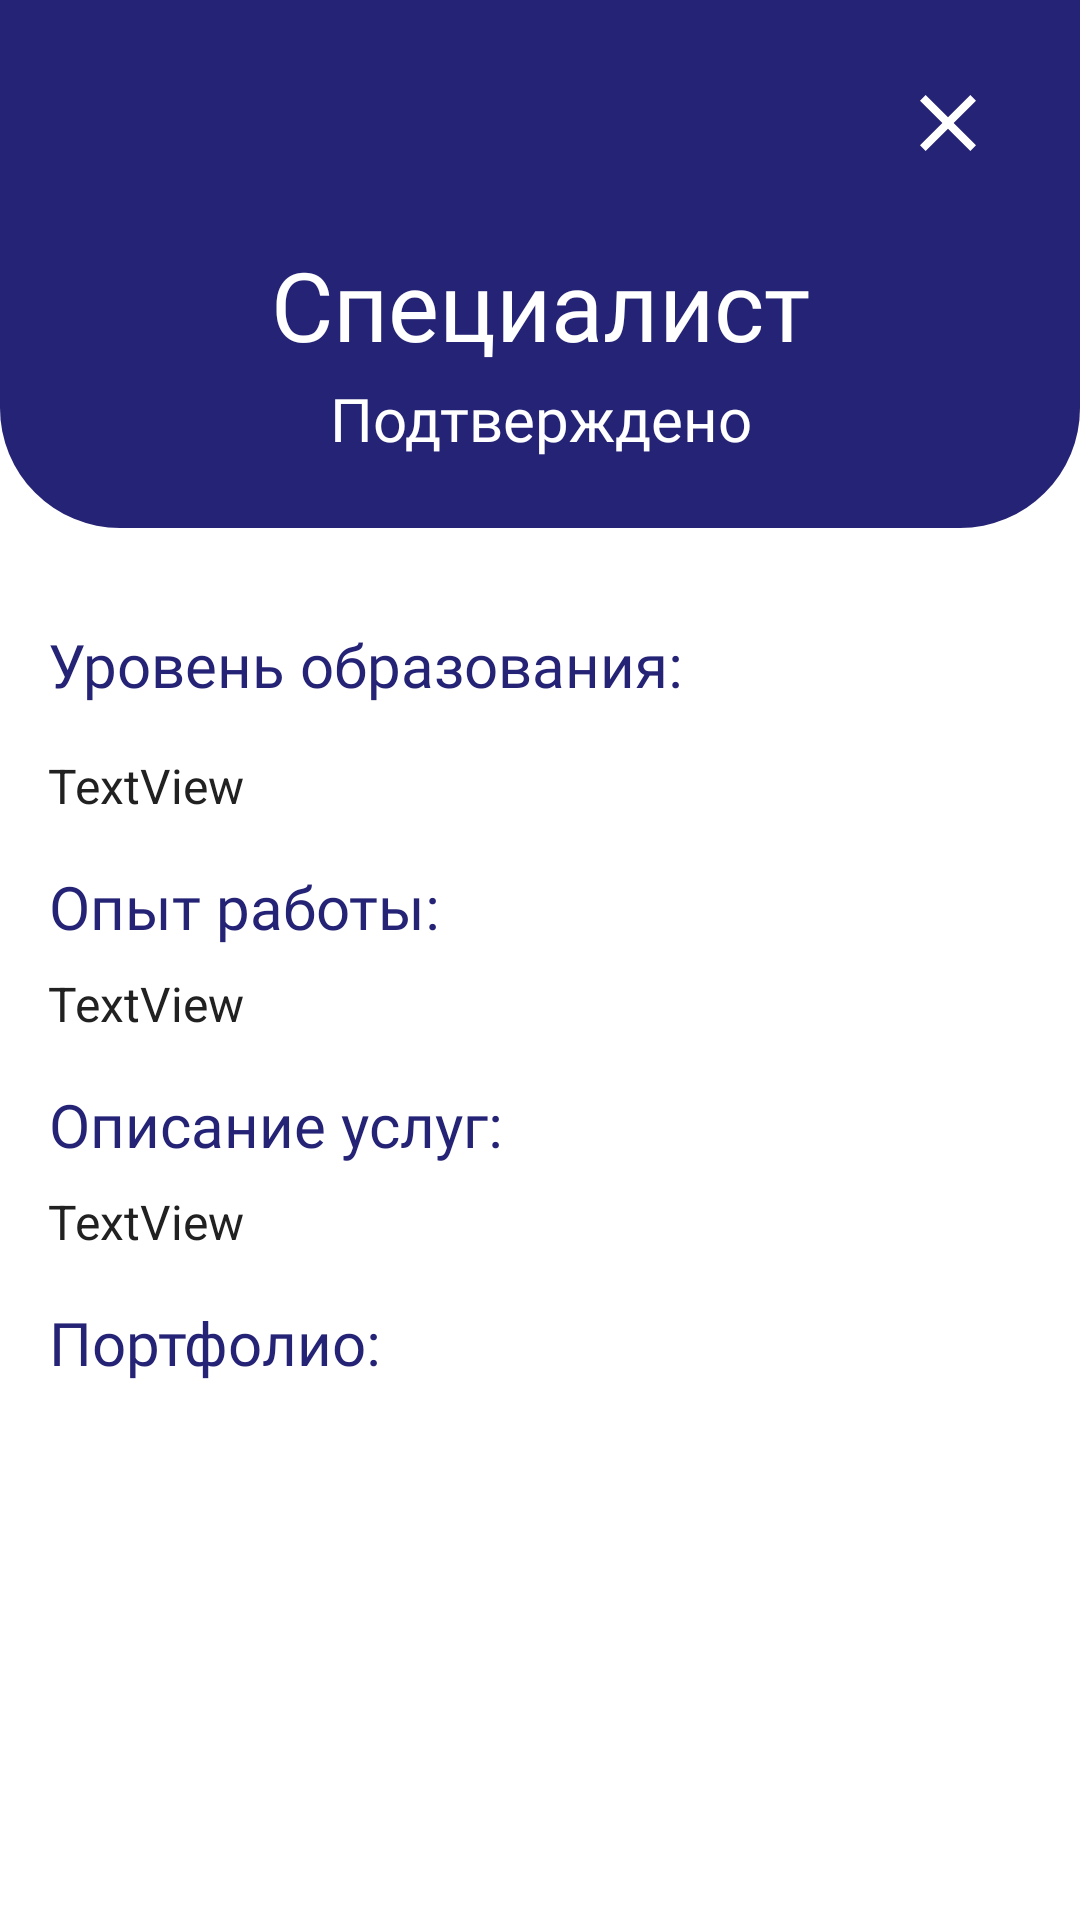

Named icons in this screenshot (1080×1920) and their centers, [x,y]:
close: [948,123]
